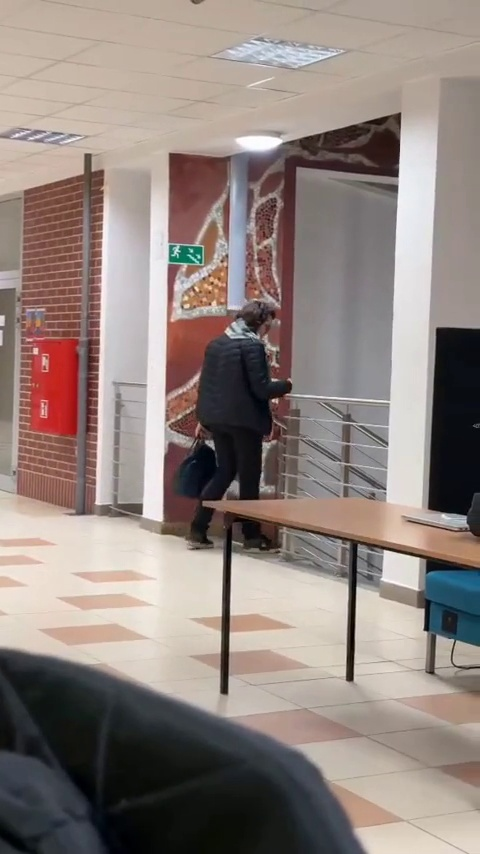no vest: (185, 303, 285, 553)
